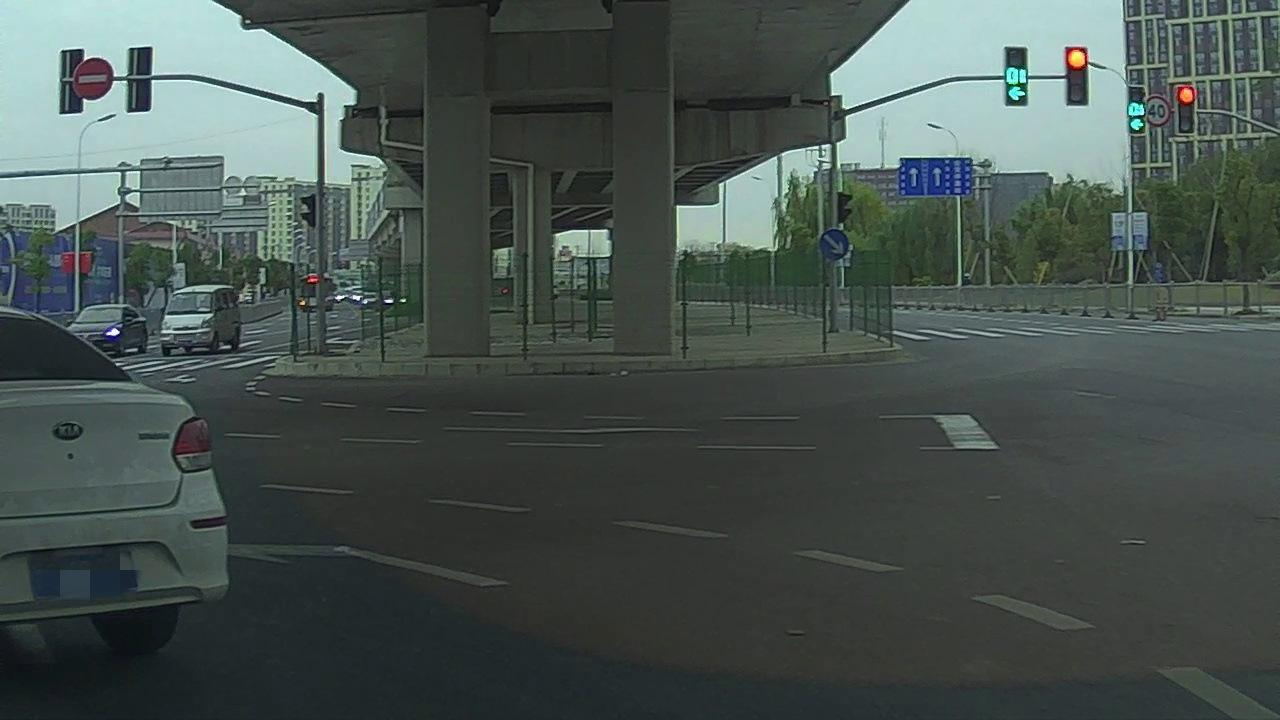traffic_light: (1066, 48, 1089, 104), (1008, 45, 1029, 105), (1177, 88, 1195, 133), (1129, 90, 1144, 132)
